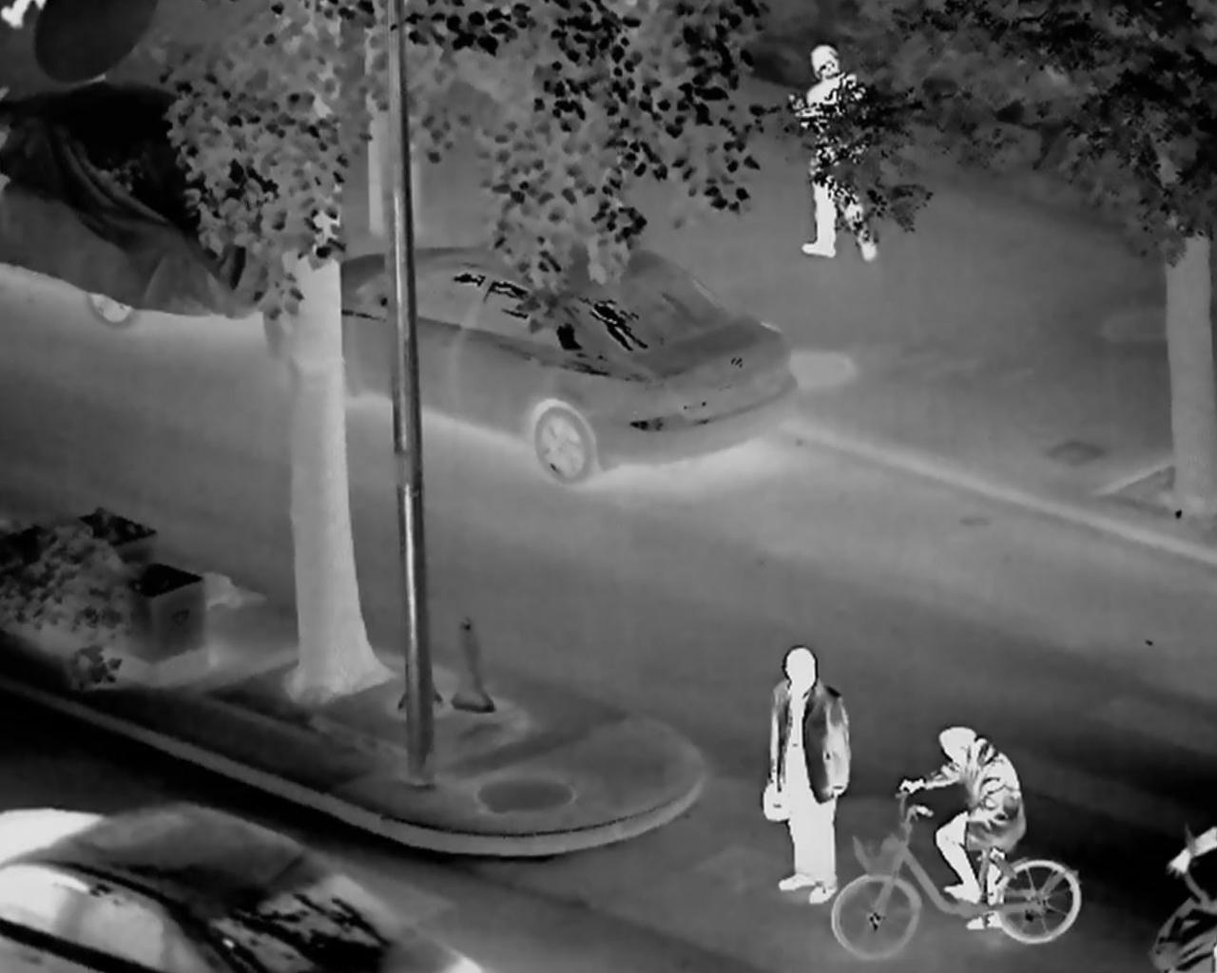person: (896, 728, 1027, 932), (764, 645, 850, 909), (789, 42, 880, 264)
